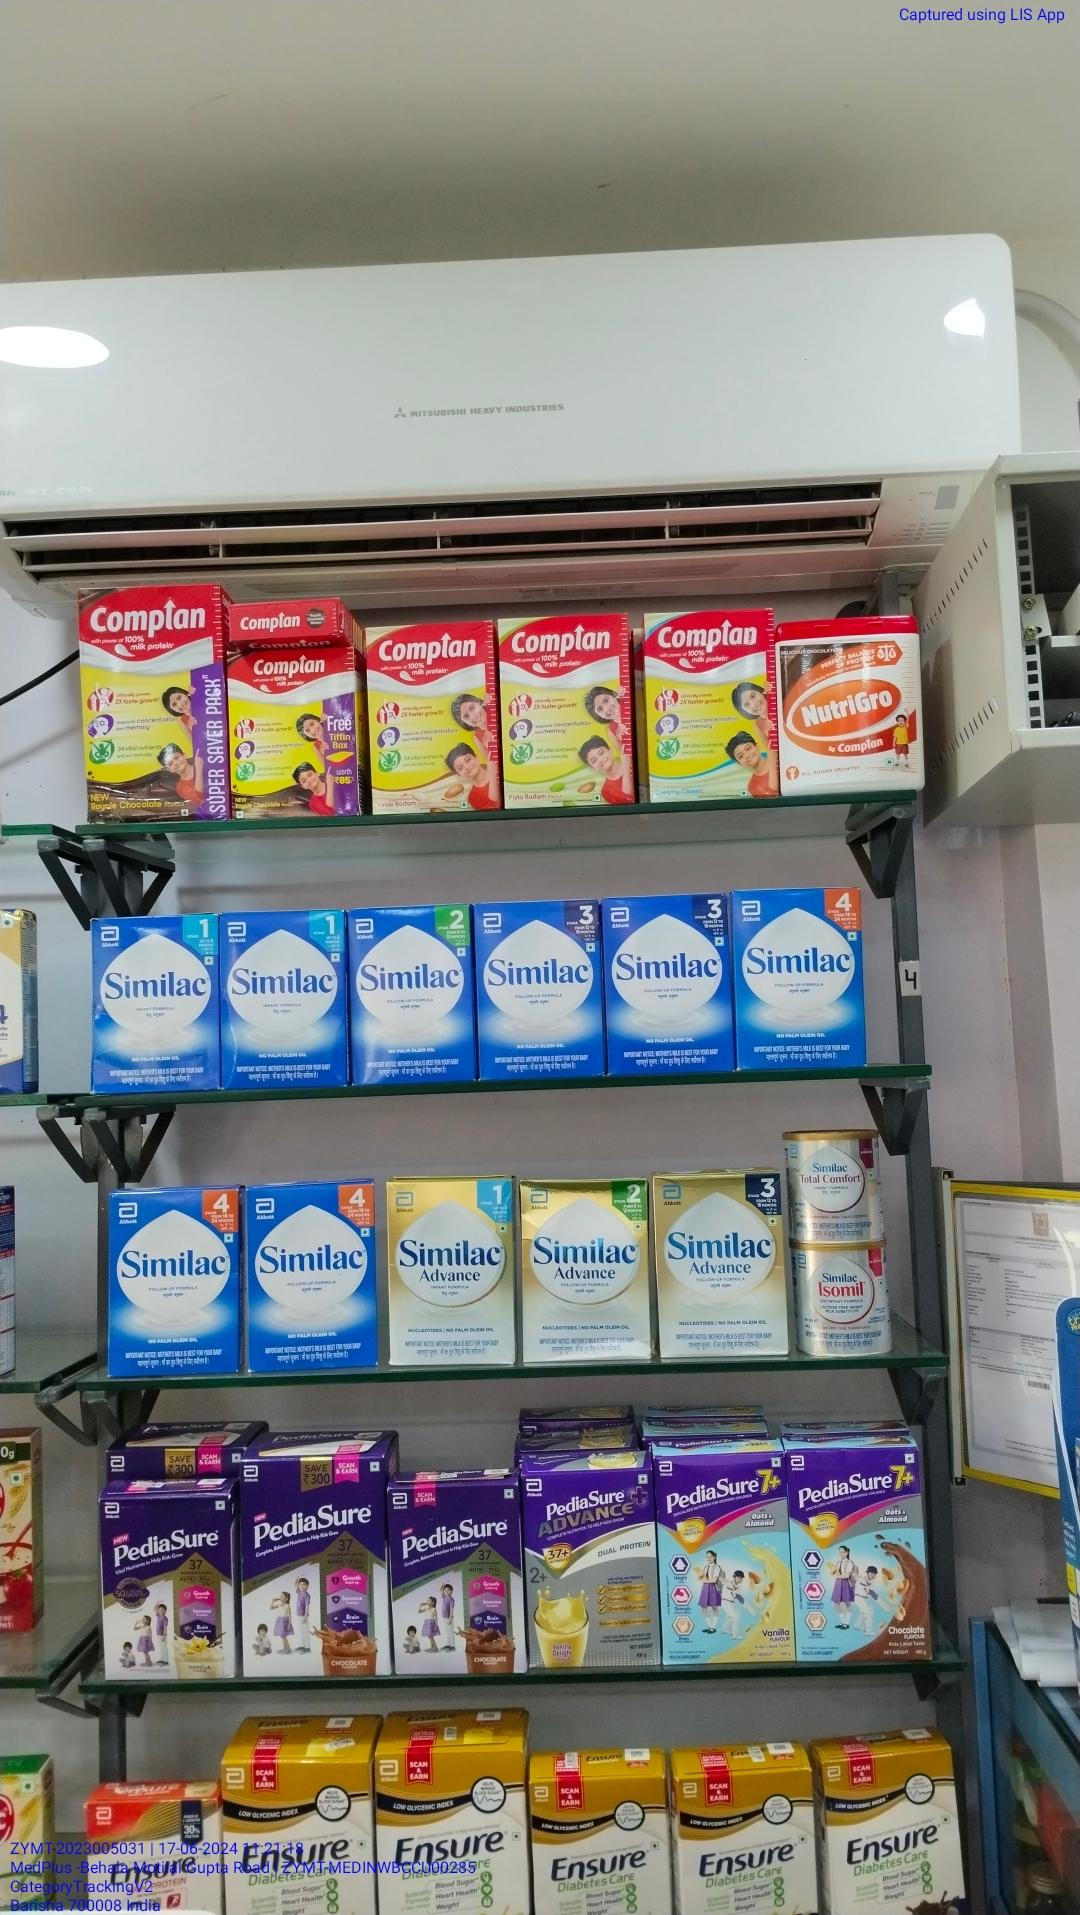COMPLAN_CHOCOLATE_1_KG_PACK: (78, 589, 224, 819)
COMPLAN_CHOCOLATE_500_GMS_PACK: (226, 650, 355, 814)
COMPLAN_CREAMY_CLASSIC_500_G_PACK: (645, 613, 776, 804)
COMPLAN_KESAR_BADAM_500_GMS_PACK: (366, 629, 497, 814)
COMPLAN_PISTA_BADAM_500_GMS_PACK: (500, 616, 634, 812)
PEDIASURE_7_PLUS_CHOCOLATE_400_G_PACK: (795, 1449, 931, 1661)
PEDIASURE_CHOCOLATE_500_G_PACK: (392, 1485, 524, 1677)
PEDIASURE_VANILLA_500_G_PACK: (101, 1497, 230, 1678)
